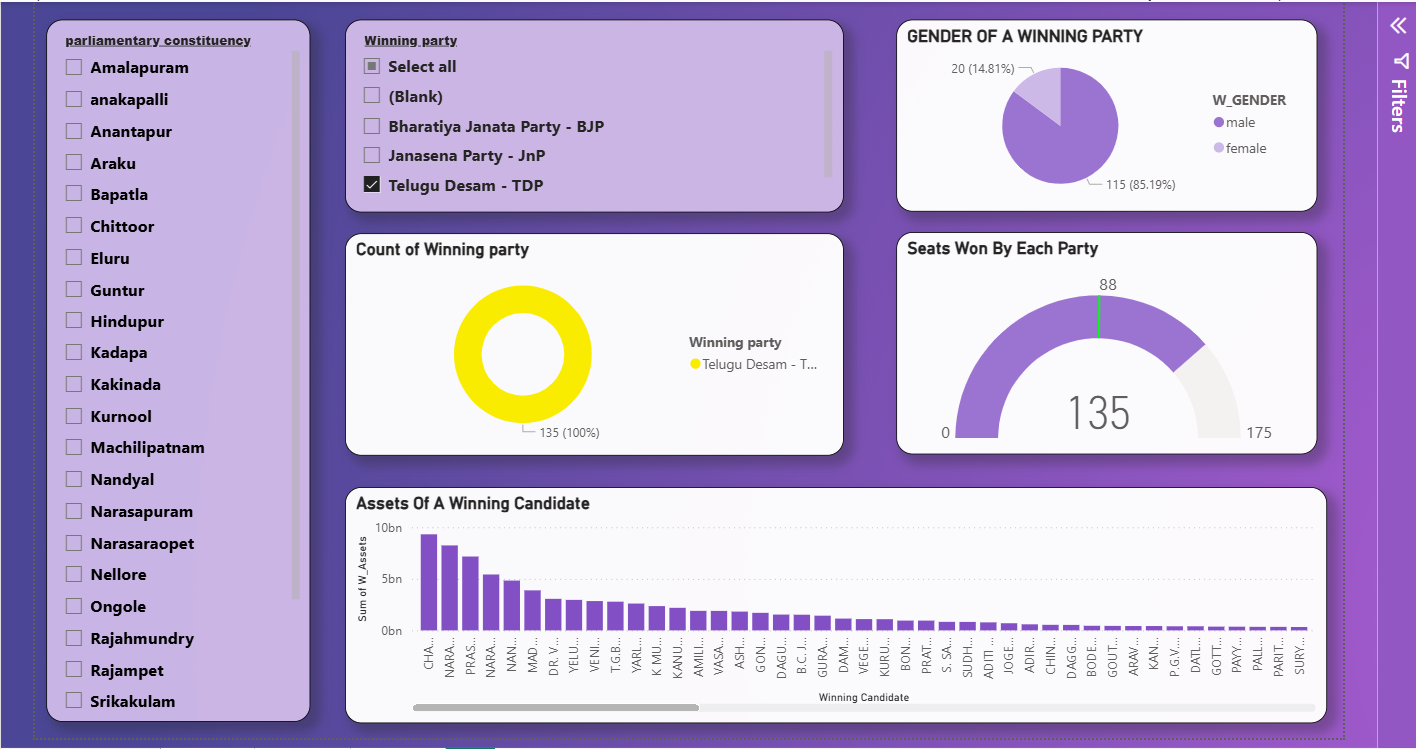

The page's visual inventory and layout, read from the dashboard file:
{"tool":"powerbi","page":{"name":"Page 1","canvas":[1280,720],"ordinal":0},"visuals":[{"type":"slicer","fields":{"Values":["Sheet1.parliamentary constituency"]},"box":[11.4,17.1,258.6,687.1],"z":0},{"type":"slicer","fields":{"Values":["Sheet1.Winning party"]},"box":[303.7,17.3,487.7,188.9],"z":1000},{"type":"donutChart","title":"Count of Winning party","fields":{"Category":["Sheet1.Winning party"],"Y":["CountNonNull(Sheet1.Winning party)"]},"box":[303.7,225.9,487.7,217.3],"z":2000},{"type":"pieChart","title":"GENDER OF A WINNING PARTY","fields":{"Y":["CountNonNull(Sheet1.W_GENDER)"],"Category":["Sheet1.W_GENDER"]},"box":[843,17.4,411.6,188.4],"z":3000},{"type":"gauge","title":"Seats Won By Each Party","fields":{"Y":["CountNonNull(Sheet1.Winning party)"]},"box":[843,225.6,411.6,217.4],"z":4000},{"type":"columnChart","title":"Assets Of A Winning Candidate","fields":{"Category":["Sheet1.Winning Candidate"],"Y":["Sum(Sheet1.W_Assets)"]},"box":[303.7,474.1,960.5,230.9],"z":5000}]}

Visuals, with their boxes in screenshot pixels (x1, y1, x2, y2):
slicer - Sheet1.parliamentary constituency: (left=41, top=14, right=306, bottom=718)
slicer - Sheet1.Winning party: (left=341, top=14, right=841, bottom=208)
"Count of Winning party" donutChart: (left=341, top=228, right=841, bottom=451)
"GENDER OF A WINNING PARTY" pieChart: (left=894, top=14, right=1316, bottom=207)
"Seats Won By Each Party" gauge: (left=894, top=228, right=1316, bottom=451)
"Assets Of A Winning Candidate" columnChart: (left=341, top=482, right=1326, bottom=719)
